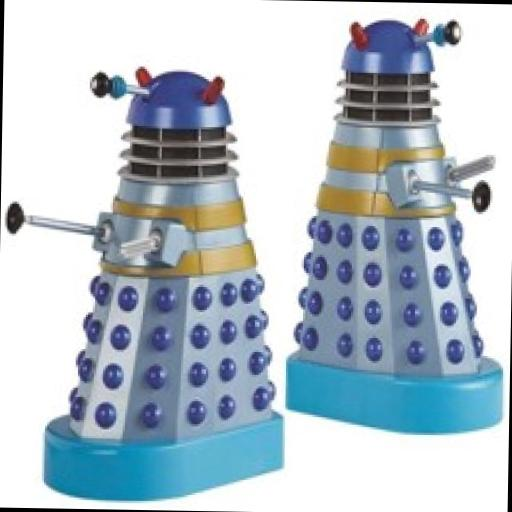dalek: (0, 60, 294, 502), (284, 7, 508, 436)
